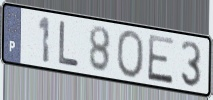1: (38, 17, 51, 66)
3: (180, 41, 203, 89)
8: (87, 26, 113, 74)
E: (146, 33, 176, 87)
L: (58, 19, 81, 68)
O: (116, 29, 146, 80)
